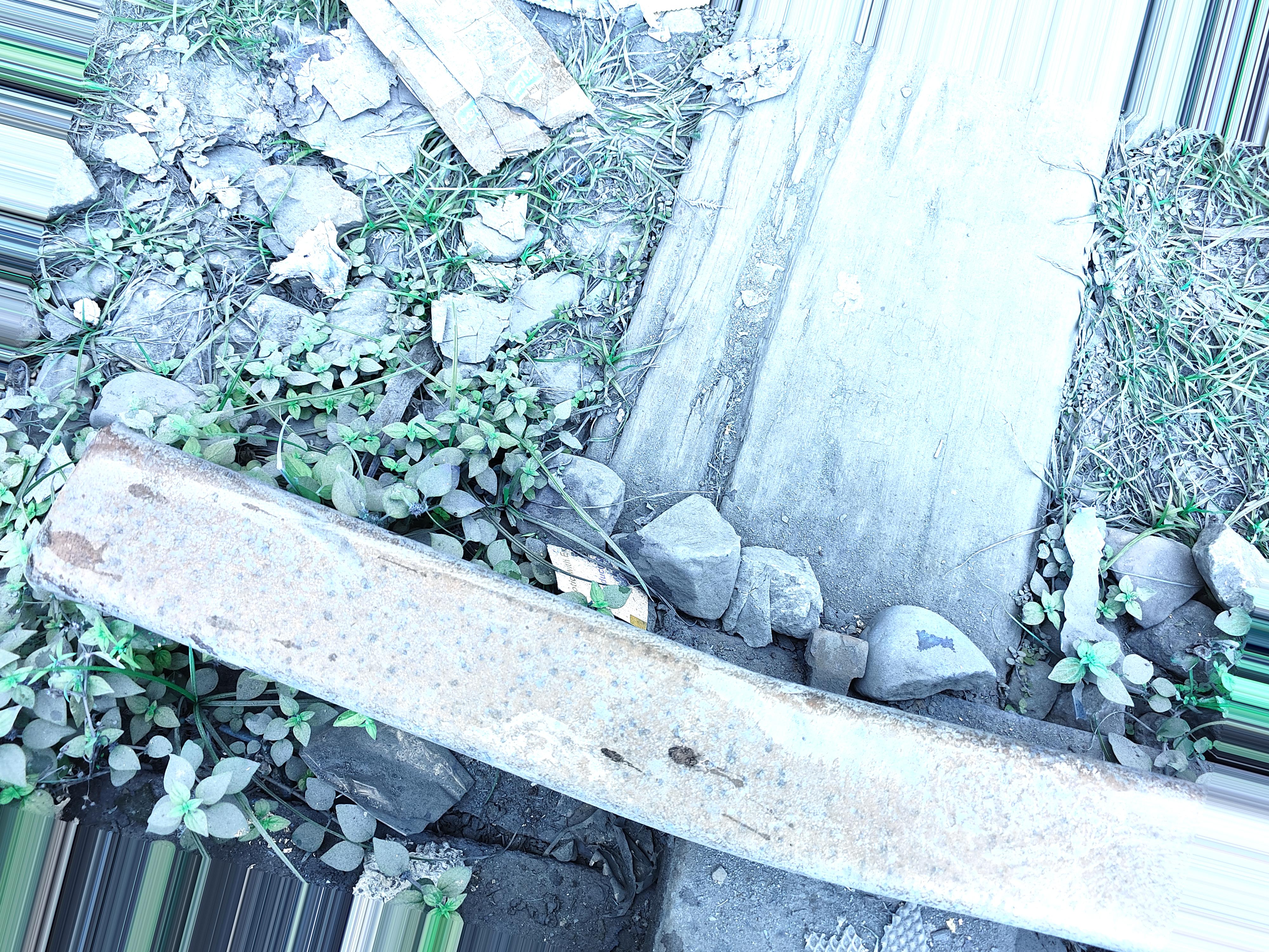tracks_fault: (6, 378, 201, 660)
